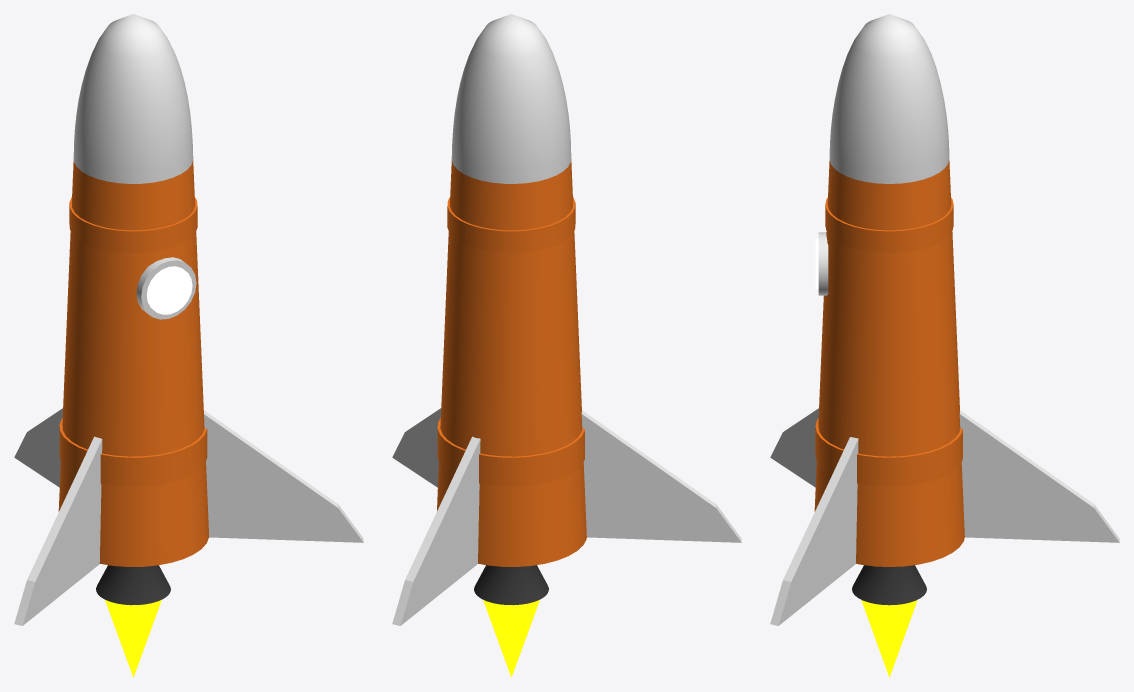
The model's file is Rocket_10_SunsetSwept.fbx.
The picture shows the model from 3 angles, left to right: view 1: azimuth 30°, elevation 25°; view 2: azimuth 150°, elevation 25°; view 3: azimuth 270°, elevation 25°; orthographic projection.
Parts seen in each view (by area): view 1: R10_Body, R10_Nose, R10_Fin_3, R10_Fin_2, R10_Band_1, R10_Band_2, R10_Nozzle_1, R10_Fin_1, R10_Flame_1, R10_Window_1, R10_WindowFrame_1; view 2: R10_Body, R10_Nose, R10_Fin_2, R10_Fin_1, R10_Band_1, R10_Band_2, R10_Nozzle_1, R10_Fin_3, R10_Flame_1; view 3: R10_Body, R10_Nose, R10_Fin_1, R10_Fin_3, R10_Band_1, R10_Band_2, R10_Nozzle_1, R10_Fin_2, R10_Flame_1, R10_WindowFrame_1.
Part boxes in pixels (x1,y1,x2,y2): R10_Body: (58,158,208,566); R10_Nose: (73,14,193,183); R10_Fin_3: (204,410,363,542); R10_Fin_2: (14,436,102,625); R10_Band_1: (59,418,207,486); R10_Band_2: (69,197,197,252); R10_Nozzle_1: (96,565,170,605); R10_Fin_1: (14,408,62,487); R10_Flame_1: (105,599,161,677); R10_Window_1: (146,266,192,314); R10_WindowFrame_1: (136,257,196,319); R10_Body: (437,158,586,566); R10_Nose: (451,14,571,183); R10_Fin_2: (581,410,741,542); R10_Fin_1: (392,436,480,625); R10_Band_1: (437,417,584,486); R10_Band_2: (447,197,575,252); R10_Nozzle_1: (474,565,548,605); R10_Fin_3: (392,408,441,487); R10_Flame_1: (483,599,539,677); R10_Body: (814,160,964,566); R10_Nose: (829,14,949,183); R10_Fin_1: (959,410,1119,542); R10_Fin_3: (770,437,858,625); R10_Band_1: (815,418,962,486); R10_Band_2: (825,197,953,252); R10_Nozzle_1: (852,565,926,605); R10_Fin_2: (770,408,818,487); R10_Flame_1: (861,600,917,677); R10_WindowFrame_1: (818,232,828,295).
Bounding box in the file's own units: 5.06 × 9.17 × 4.38.
